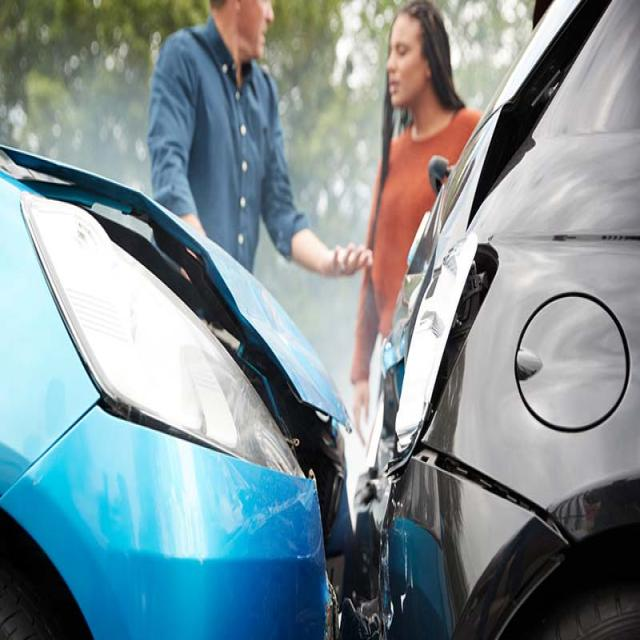dent: (355, 437, 396, 535), (388, 269, 425, 360)
misalignment: (0, 145, 350, 547), (387, 243, 575, 542), (466, 0, 613, 230), (95, 395, 231, 456)
scratch: (216, 457, 323, 564), (377, 530, 396, 640), (394, 526, 416, 615)
tear: (326, 573, 345, 640)
